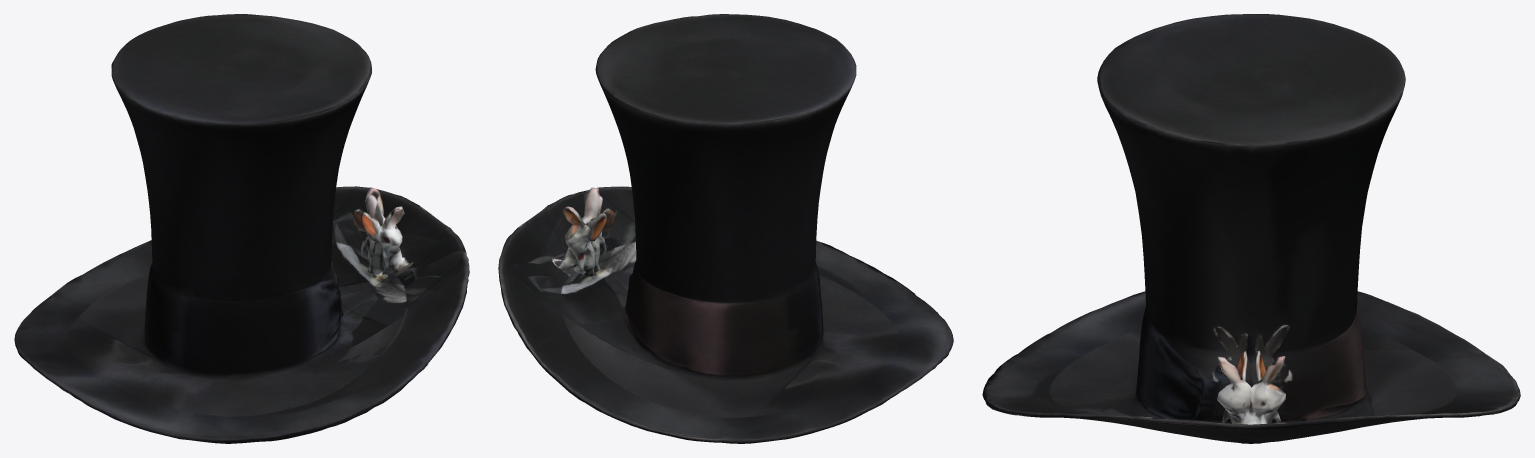
The model's file is A_top_hat_very_big_s_0903050444_texture.fbx.
3 views of the same model, side by side, from view 1: azimuth 30°, elevation 25°; view 2: azimuth 150°, elevation 25°; view 3: azimuth 270°, elevation 25° (orthographic). The views are drawn at different scales.
Parts seen in each view (by area): view 1: Mesh1.0; view 2: Mesh1.0; view 3: Mesh1.0.
Part boxes in pixels (box(x1,y1,x2,y2)): Mesh1.0: box(14, 14, 469, 443); Mesh1.0: box(498, 14, 953, 443); Mesh1.0: box(982, 14, 1520, 443).
Bounding box in the file's own units: 200 × 137 × 200.
1 material, 1 textured.
